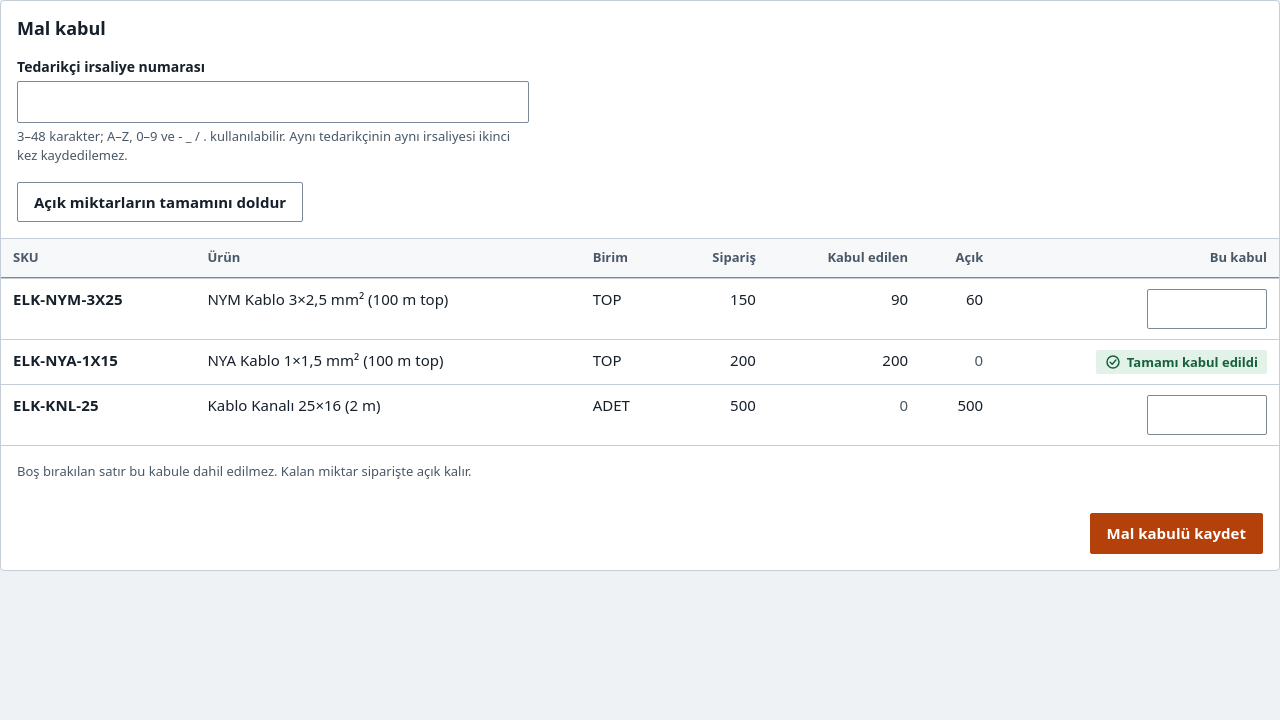
Scenario: mal kabul formu › ondalık ya da sıfır miktarı kabul etmez
Type "AK-1" into the field labelled "Tedarikçi irsaliye numarası" at coordinates (273, 102), box [17, 80, 529, 122]
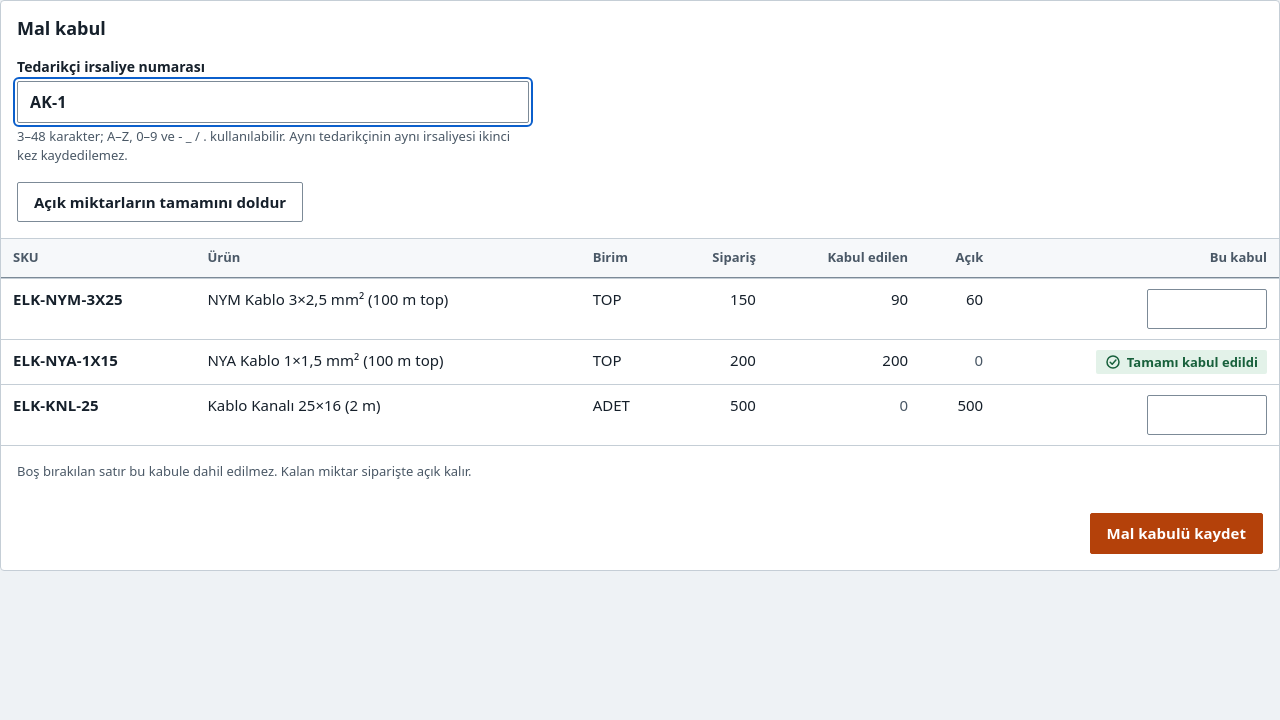
Type "1,5" into the field in the row of "ELK-NYM-3X25" at coordinates (1207, 308), box [1147, 288, 1267, 328]
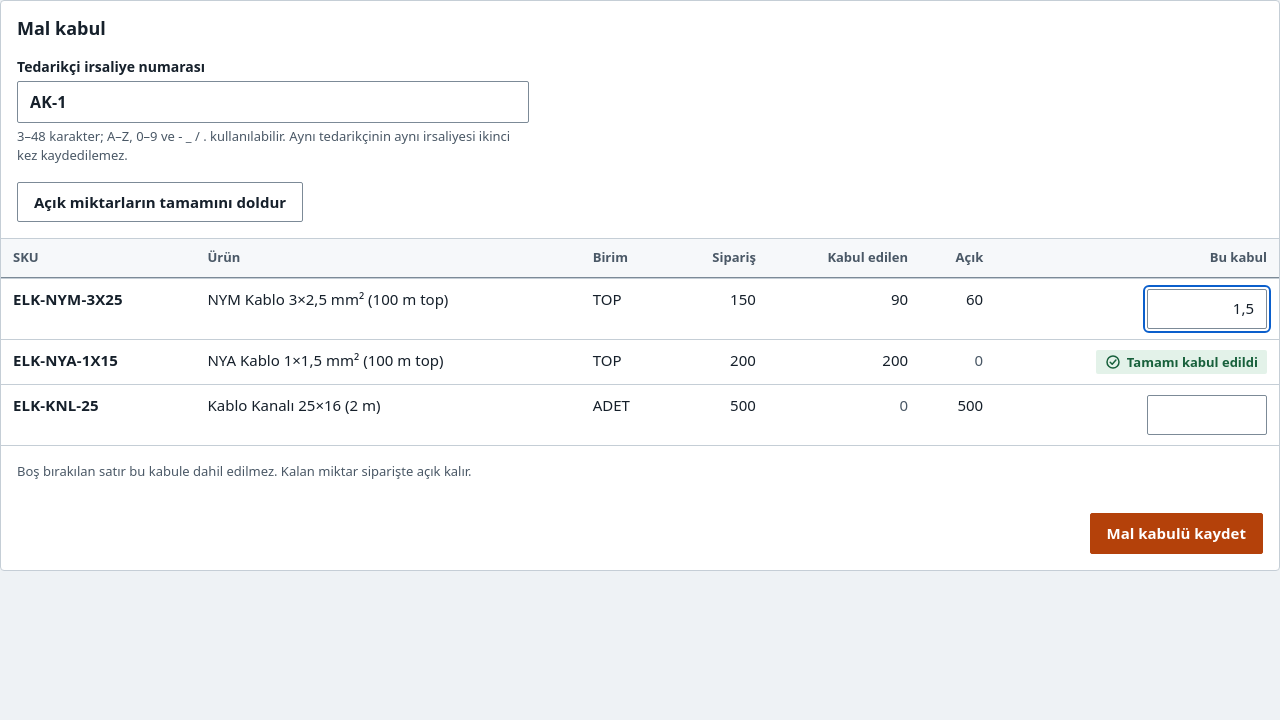
Type "0" into the field in the row of "ELK-KNL-25" at coordinates (1207, 415), box [1147, 395, 1267, 435]
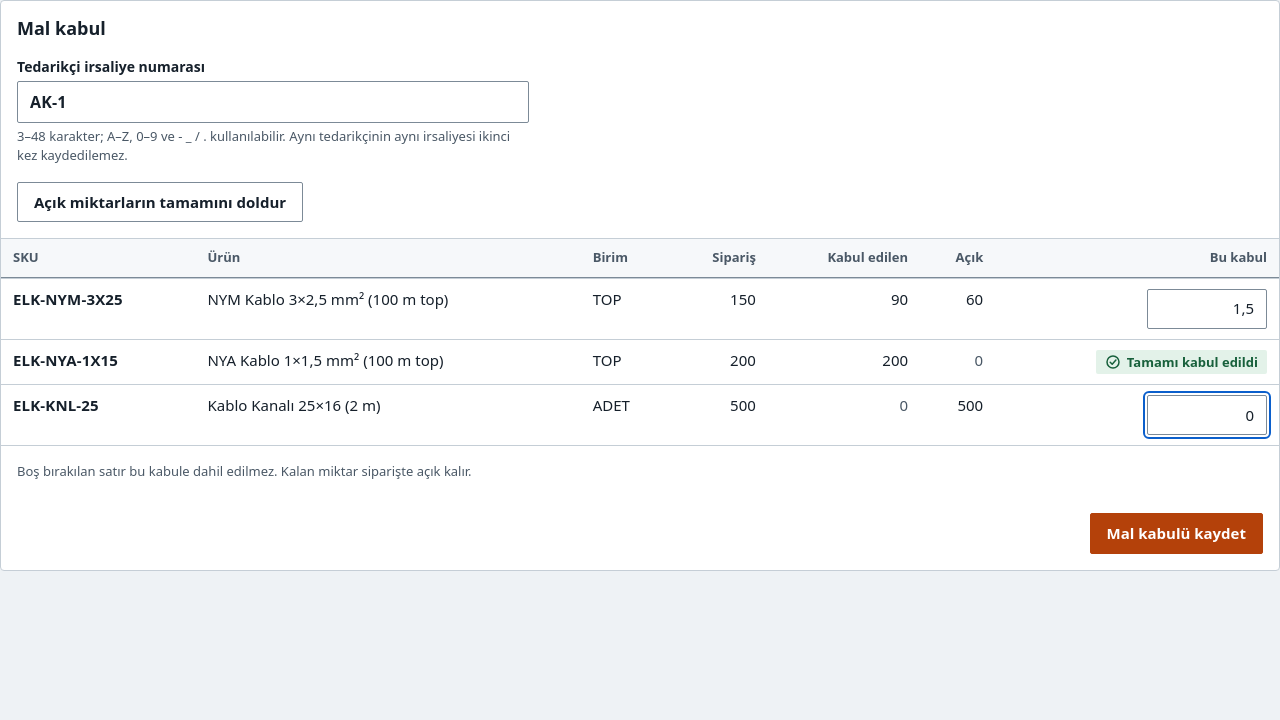
Click the button "Mal kabulü kaydet" at coordinates (1176, 534), box [1090, 513, 1263, 554]
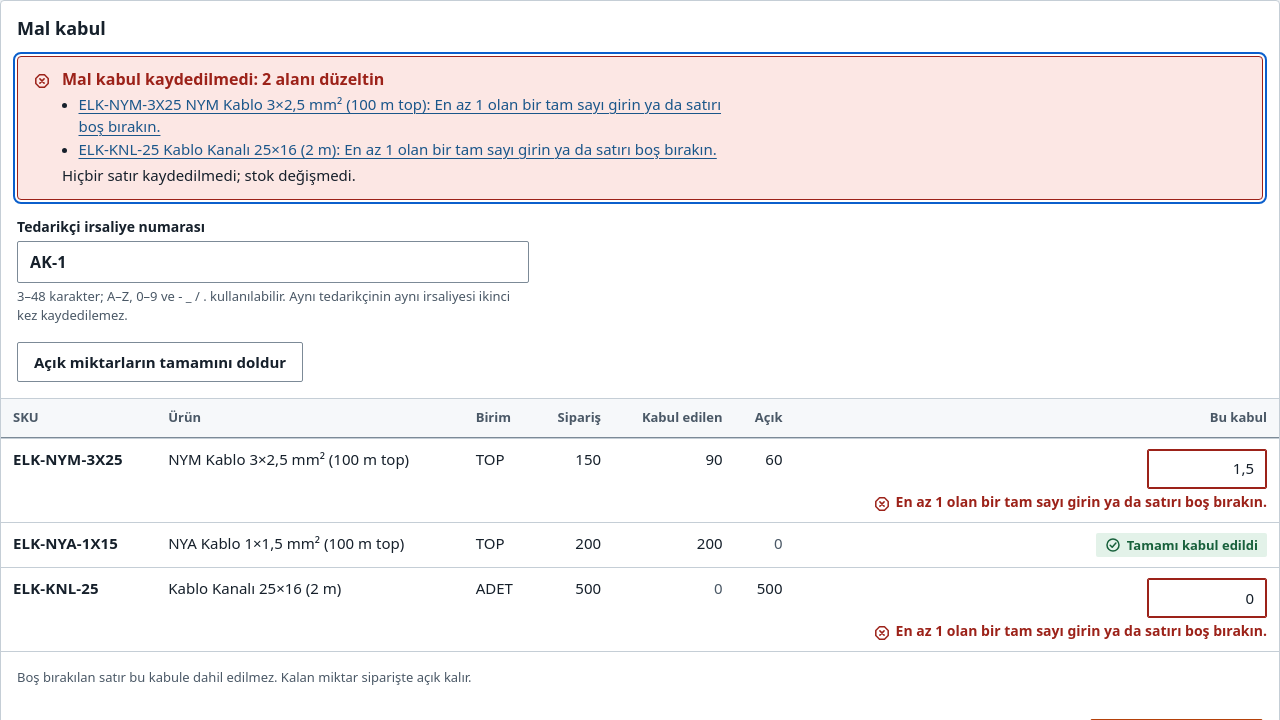
Expected: the number of links is 2, [78, 94, 721, 136]; [78, 138, 717, 158]
